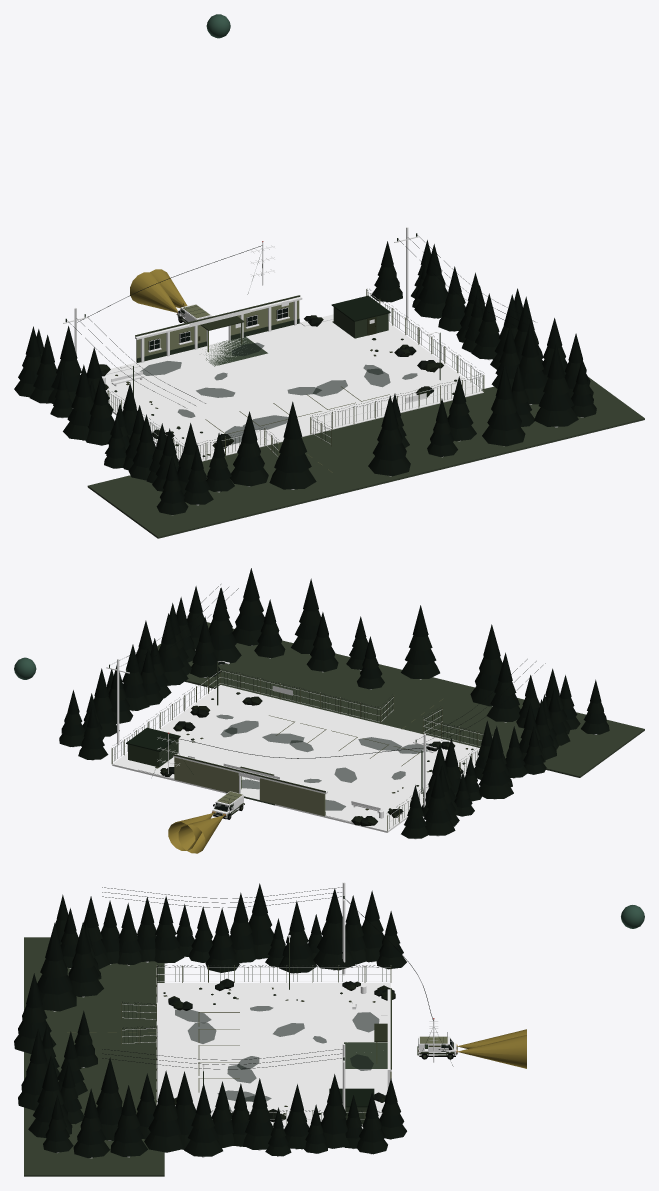
The model's file is station_facade_and_mast.obj.
The picture shows the model from 3 angles, top to bottom: view 1: azimuth 30°, elevation 25°; view 2: azimuth 150°, elevation 25°; view 3: azimuth 270°, elevation 25°; orthographic projection. The views are drawn at different scales.
Visible parts, largest first — view 1: station_facade_and_mast_DA_0000, station_facade_and_mast_DA_0201, station_facade_and_mast_DA_0001, station_facade_and_mast_DA_0200, station_facade_and_mast_DA_0192, station_facade_and_mast_DA_0195, station_facade_and_mast_DA_0187, station_facade_and_mast_DA_0185, station_facade_and_mast_DA_0002, station_facade_and_mast_DA_0190, station_facade_and_mast_DA_0016, station_facade_and_mast_DA_0031 (+2 smaller); view 2: station_facade_and_mast_DA_0000, station_facade_and_mast_DA_0201, station_facade_and_mast_DA_0001, station_facade_and_mast_DA_0200, station_facade_and_mast_DA_0016, station_facade_and_mast_DA_0018, station_facade_and_mast_DA_0192, station_facade_and_mast_DA_0195, station_facade_and_mast_DA_0185, station_facade_and_mast_DA_0190, station_facade_and_mast_DA_0187, station_facade_and_mast_DA_0030 (+7 smaller); view 3: station_facade_and_mast_DA_0000, station_facade_and_mast_DA_0201, station_facade_and_mast_DA_0200, station_facade_and_mast_DA_0001, station_facade_and_mast_DA_0190, station_facade_and_mast_DA_0192, station_facade_and_mast_DA_0186, station_facade_and_mast_DA_0002, station_facade_and_mast_DA_0198, station_facade_and_mast_DA_0203, station_facade_and_mast_DA_0195, station_facade_and_mast_DA_0031 (+5 smaller).
Boxes of the visible parts, box(x1,y1,x2,y2) form: station_facade_and_mast_DA_0000: box(105, 319, 483, 461); station_facade_and_mast_DA_0201: box(18, 240, 593, 503); station_facade_and_mast_DA_0001: box(87, 377, 644, 538); station_facade_and_mast_DA_0200: box(14, 265, 596, 514); station_facade_and_mast_DA_0192: box(102, 242, 483, 459); station_facade_and_mast_DA_0195: box(109, 292, 483, 458); station_facade_and_mast_DA_0187: box(106, 296, 333, 374); station_facade_and_mast_DA_0185: box(130, 272, 177, 312); station_facade_and_mast_DA_0002: box(206, 336, 267, 366); station_facade_and_mast_DA_0190: box(67, 235, 534, 446); station_facade_and_mast_DA_0016: box(136, 325, 206, 362); station_facade_and_mast_DA_0031: box(331, 295, 390, 321); station_facade_and_mast_DA_0000: box(112, 685, 479, 832); station_facade_and_mast_DA_0201: box(61, 568, 606, 828); station_facade_and_mast_DA_0001: box(157, 622, 644, 777); station_facade_and_mast_DA_0200: box(59, 599, 609, 838); station_facade_and_mast_DA_0016: box(260, 778, 325, 816); station_facade_and_mast_DA_0018: box(174, 757, 238, 793); station_facade_and_mast_DA_0192: box(111, 661, 492, 829); station_facade_and_mast_DA_0195: box(114, 671, 482, 828); station_facade_and_mast_DA_0185: box(178, 815, 224, 853); station_facade_and_mast_DA_0190: box(113, 584, 545, 811); station_facade_and_mast_DA_0187: box(138, 754, 353, 822); station_facade_and_mast_DA_0030: box(128, 739, 178, 767); station_facade_and_mast_DA_0000: box(156, 983, 390, 1128); station_facade_and_mast_DA_0201: box(18, 883, 404, 1147); station_facade_and_mast_DA_0200: box(14, 913, 406, 1157); station_facade_and_mast_DA_0001: box(24, 937, 164, 1176); station_facade_and_mast_DA_0190: box(102, 887, 433, 1112); station_facade_and_mast_DA_0192: box(122, 935, 437, 1126); station_facade_and_mast_DA_0186: box(457, 1035, 526, 1068); station_facade_and_mast_DA_0002: box(344, 1042, 387, 1068); station_facade_and_mast_DA_0198: box(53, 882, 391, 1158); station_facade_and_mast_DA_0203: box(168, 978, 394, 1121); station_facade_and_mast_DA_0195: box(124, 967, 386, 1125); station_facade_and_mast_DA_0031: box(329, 1088, 374, 1107).
Size of the model in its own units: 72 by 30.83 by 80.83.
